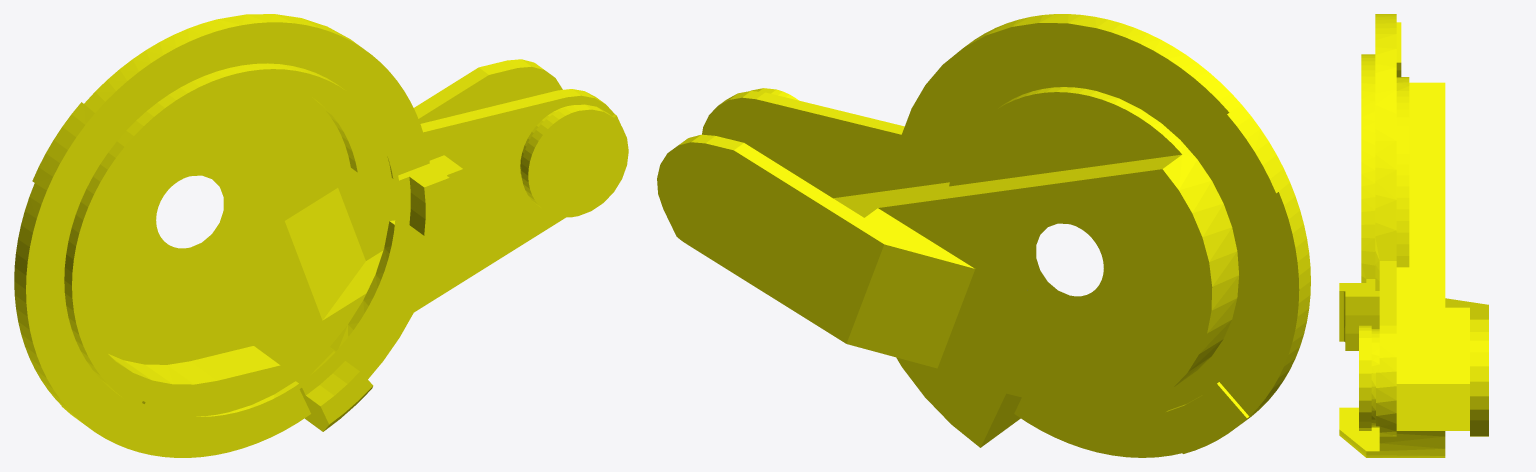
The picture shows the model from 3 angles, left to right: view 1: azimuth 30°, elevation 25°; view 2: azimuth 150°, elevation 25°; view 3: azimuth 270°, elevation 25°; orthographic projection. The views are drawn at different scales.
Parts seen in each view (by area): view 1: node; view 2: node; view 3: node.
Boxes of the visible parts, x1,y1,x2,y2 form: node: (14,14,628,457); node: (657,14,1310,457); node: (1339,14,1488,457).
Bounding box in the file's own units: 703 × 476 × 204.
